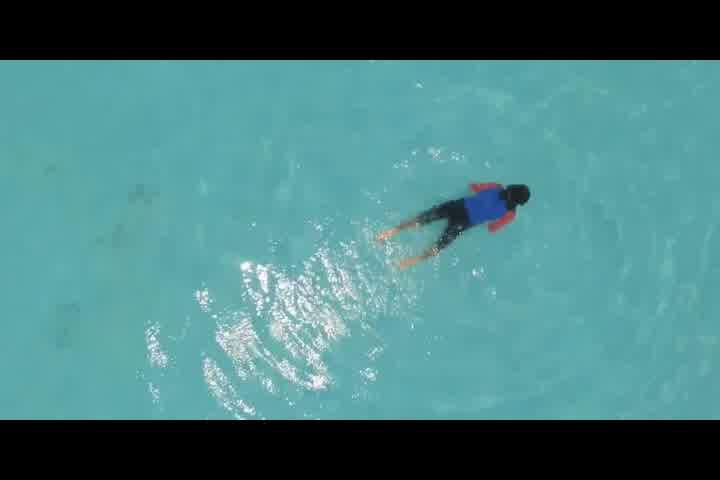swimmer: (380, 171, 532, 272)
